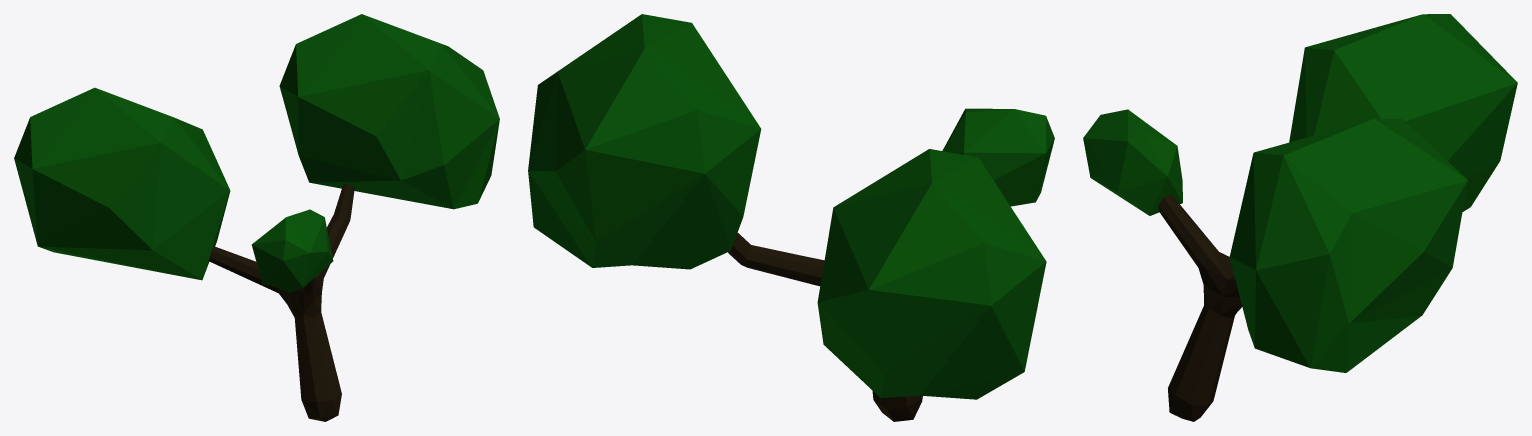
The model's file is wood_02.obj.
3 views of the same model, side by side, from view 1: azimuth 30°, elevation 25°; view 2: azimuth 150°, elevation 25°; view 3: azimuth 270°, elevation 25° (orthographic). The views are drawn at different scales.
Visible parts, largest first — view 1: wood_02_Плоскость.021; view 2: wood_02_Плоскость.021; view 3: wood_02_Плоскость.021.
Boxes of the visible parts, x1,y1,x2,y2 form: wood_02_Плоскость.021: (14,14,499,421); wood_02_Плоскость.021: (528,14,1054,421); wood_02_Плоскость.021: (1083,14,1517,421).
Size of the model in its own units: 5.26 by 3.77 by 4.05.
